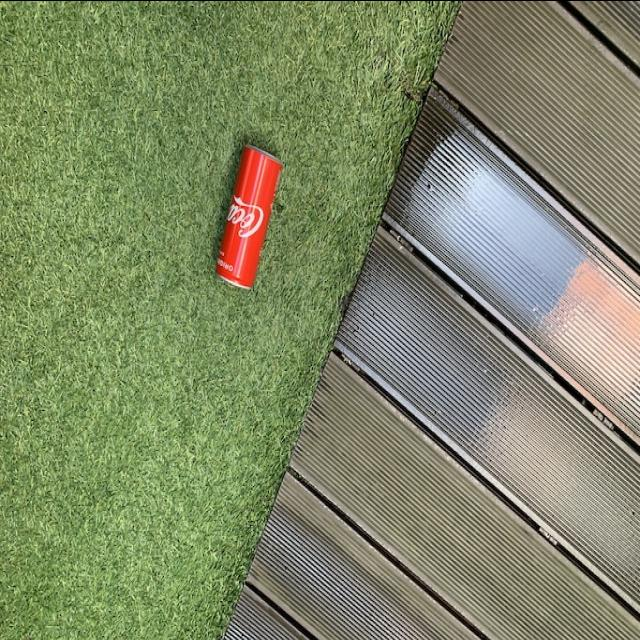litter: (211, 134, 284, 302)
